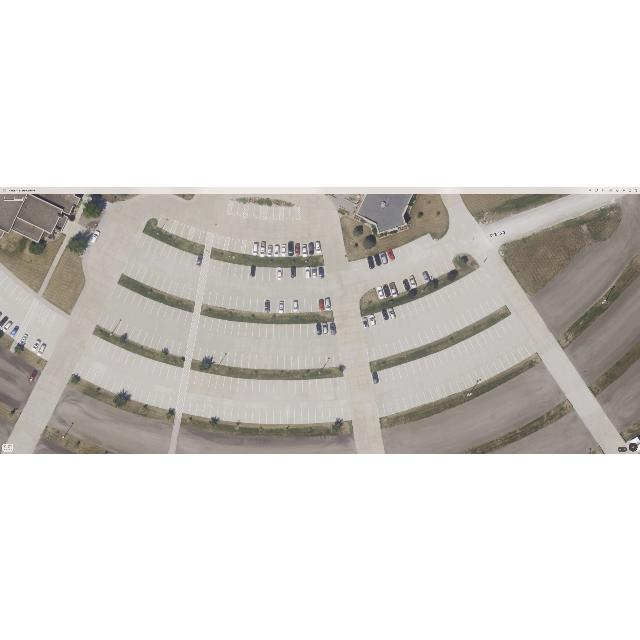Empty: (4, 280, 19, 295), (16, 289, 30, 304), (10, 284, 24, 299), (468, 370, 481, 386), (457, 277, 470, 293), (456, 341, 469, 356), (124, 290, 137, 305), (111, 283, 124, 298), (102, 315, 115, 330), (92, 337, 105, 352), (78, 364, 91, 379), (444, 284, 457, 299), (450, 281, 463, 296), (463, 274, 476, 289), (475, 267, 488, 282), (492, 293, 505, 308), (480, 300, 493, 315), (474, 304, 487, 319), (468, 307, 481, 322), (456, 313, 469, 328), (487, 325, 500, 340), (499, 318, 512, 333), (506, 314, 519, 329), (480, 364, 493, 379), (499, 355, 512, 370), (505, 351, 518, 366), (517, 344, 530, 359), (180, 223, 192, 239), (163, 216, 175, 232), (148, 237, 160, 253), (462, 373, 474, 389), (449, 378, 461, 394), (123, 323, 135, 339), (111, 346, 124, 360), (486, 297, 499, 311), (462, 311, 475, 325), (437, 323, 450, 337), (493, 322, 506, 336), (523, 341, 536, 355), (157, 213, 169, 228), (173, 248, 185, 263), (167, 246, 179, 261), (160, 243, 172, 258), (154, 240, 166, 255), (136, 232, 148, 247), (147, 272, 159, 287), (135, 267, 147, 282), (129, 264, 141, 279), (455, 376, 467, 391), (469, 335, 481, 350), (450, 344, 462, 359), (475, 332, 487, 347), (481, 329, 493, 344), (170, 307, 182, 322), (137, 295, 149, 310), (131, 292, 143, 307), (118, 286, 130, 301), (135, 329, 147, 344), (116, 321, 128, 336), (110, 318, 122, 333), (97, 312, 109, 327), (118, 349, 130, 364), (105, 343, 117, 358), (99, 340, 111, 355), (86, 334, 98, 349), (118, 382, 130, 397), (111, 379, 123, 394), (104, 376, 116, 391), (98, 373, 110, 388), (72, 361, 84, 376), (423, 232, 435, 247), (438, 259, 450, 274), (413, 298, 425, 313), (426, 293, 438, 308), (432, 290, 444, 305), (438, 287, 450, 302), (470, 271, 482, 286), (450, 316, 462, 331), (431, 325, 443, 340), (475, 367, 487, 382), (487, 361, 499, 376), (493, 358, 505, 373), (512, 348, 524, 363), (39, 305, 50, 321), (25, 334, 36, 350), (43, 345, 54, 361), (394, 305, 405, 321), (420, 295, 431, 311), (142, 235, 154, 249), (141, 270, 153, 284), (156, 303, 168, 317), (142, 332, 154, 346), (129, 327, 141, 341), (91, 371, 103, 385), (85, 368, 97, 382), (417, 235, 429, 249), (444, 257, 456, 271), (426, 266, 438, 280), (444, 320, 456, 334), (418, 330, 430, 344), (437, 350, 449, 364), (174, 221, 185, 236), (180, 251, 191, 266), (174, 282, 185, 297), (167, 280, 178, 295), (161, 277, 172, 292), (154, 275, 165, 290), (444, 347, 455, 362), (164, 305, 175, 320), (144, 298, 155, 313), (170, 340, 181, 355), (150, 334, 161, 349), (153, 360, 164, 375), (139, 356, 150, 371), (132, 354, 143, 369), (125, 351, 136, 366), (153, 393, 164, 408), (146, 391, 157, 406), (139, 389, 150, 404), (132, 387, 143, 402), (125, 384, 136, 399), (45, 309, 56, 324), (51, 313, 62, 328), (400, 303, 411, 318), (407, 301, 418, 316), (412, 332, 423, 347), (404, 361, 415, 376), (411, 359, 422, 374), (418, 357, 429, 372), (424, 354, 435, 369), (429, 386, 440, 401), (396, 397, 407, 412), (377, 369, 387, 385), (384, 367, 394, 383), (398, 363, 408, 379), (411, 239, 423, 252), (432, 264, 444, 277), (177, 310, 188, 324), (150, 301, 161, 315), (160, 363, 171, 377), (146, 359, 157, 373), (160, 395, 171, 409), (57, 317, 68, 331), (392, 247, 403, 261), (414, 272, 425, 286), (394, 279, 405, 293), (425, 328, 436, 342), (399, 337, 410, 351), (379, 343, 390, 357), (431, 353, 442, 367), (443, 382, 454, 396), (436, 385, 447, 399), (423, 389, 434, 403), (416, 391, 427, 405), (409, 393, 420, 407), (403, 395, 414, 409), (198, 229, 208, 244), (191, 227, 201, 242), (187, 253, 197, 268), (188, 286, 198, 301), (181, 284, 191, 299), (205, 348, 215, 363), (201, 372, 211, 387), (178, 342, 188, 357), (164, 338, 174, 353), (157, 336, 167, 351), (391, 366, 401, 381), (390, 399, 400, 414), (230, 200, 239, 216), (375, 311, 384, 327), (405, 242, 416, 255), (386, 342, 397, 355), (220, 261, 230, 275), (208, 291, 218, 305), (210, 318, 220, 332), (198, 347, 208, 361), (226, 352, 236, 366), (209, 405, 219, 419), (202, 404, 212, 418), (194, 371, 204, 385), (174, 367, 184, 381), (167, 365, 177, 379), (168, 397, 178, 411), (398, 244, 408, 258), (406, 335, 416, 349), (393, 339, 403, 353), (383, 401, 393, 415), (376, 403, 386, 417), (227, 262, 236, 277), (214, 259, 223, 274), (204, 316, 213, 331), (241, 353, 250, 368), (196, 402, 205, 417), (229, 378, 239, 391), (237, 201, 245, 217), (241, 265, 250, 279), (234, 264, 243, 278), (229, 295, 238, 309), (222, 294, 231, 308), (215, 293, 224, 307), (234, 238, 243, 252), (227, 237, 236, 251), (326, 353, 335, 367), (309, 379, 318, 393), (231, 321, 240, 335), (224, 320, 233, 334), (213, 350, 222, 364), (220, 351, 229, 365), (234, 353, 243, 367), (237, 378, 246, 392), (223, 376, 232, 390), (216, 375, 225, 389), (209, 374, 218, 388), (231, 408, 240, 422), (224, 407, 233, 421), (216, 406, 225, 420), (189, 401, 198, 415), (185, 311, 194, 325), (373, 345, 382, 359), (367, 347, 376, 361), (262, 266, 270, 281), (311, 297, 319, 312), (245, 239, 253, 254), (218, 234, 226, 249), (212, 233, 220, 248), (253, 204, 261, 219), (247, 203, 255, 218), (238, 322, 247, 335), (269, 267, 277, 281), (255, 266, 263, 280), (257, 298, 265, 312), (243, 297, 251, 311), (236, 296, 244, 310), (307, 323, 315, 337), (333, 352, 341, 366), (319, 354, 327, 368), (298, 355, 306, 369), (302, 379, 310, 393), (343, 406, 351, 420), (336, 407, 344, 421), (329, 408, 337, 422), (315, 409, 323, 423), (266, 323, 274, 337), (259, 323, 267, 337), (218, 319, 226, 333), (256, 355, 264, 369), (263, 355, 271, 369), (252, 379, 260, 393), (245, 409, 253, 423), (238, 409, 246, 423), (250, 298, 258, 311), (286, 324, 294, 337), (312, 355, 320, 368), (305, 355, 313, 368), (338, 377, 346, 390), (317, 379, 325, 392), (295, 380, 303, 393), (288, 380, 296, 393), (284, 356, 292, 369), (287, 411, 295, 424), (273, 411, 281, 424), (248, 355, 256, 368), (259, 380, 267, 393), (245, 379, 253, 392), (252, 410, 260, 423), (297, 267, 304, 281), (283, 267, 290, 281), (305, 298, 312, 312), (298, 299, 305, 313), (284, 299, 291, 313), (271, 299, 278, 313), (267, 205, 274, 219), (331, 377, 338, 391), (324, 378, 331, 392), (270, 355, 277, 369), (302, 410, 309, 424), (295, 410, 302, 424), (281, 410, 288, 424), (253, 323, 260, 337), (246, 322, 253, 336), (273, 206, 280, 219), (301, 324, 308, 337), (294, 324, 301, 337), (280, 324, 287, 337), (292, 356, 299, 369), (281, 380, 288, 393), (274, 380, 281, 393), (277, 356, 284, 369), (323, 409, 330, 422), (309, 410, 316, 423), (273, 324, 280, 337), (267, 380, 274, 393), (267, 411, 274, 424), (260, 410, 267, 423), (290, 206, 296, 220), (284, 206, 290, 220)
Parked: (7, 322, 21, 340), (1, 319, 15, 334), (30, 338, 42, 354), (379, 251, 391, 266), (36, 342, 48, 357), (367, 313, 378, 329), (387, 307, 398, 323), (407, 274, 419, 288), (19, 332, 31, 346), (366, 255, 377, 270), (386, 248, 397, 263), (375, 285, 386, 300), (361, 315, 371, 331), (381, 309, 391, 325), (123, 261, 134, 275), (420, 269, 431, 283), (401, 277, 412, 291), (373, 253, 383, 268), (382, 283, 392, 298), (371, 371, 381, 386), (248, 264, 257, 280), (194, 253, 203, 269), (0, 314, 9, 330), (327, 321, 337, 335), (389, 282, 398, 297), (317, 266, 327, 279), (259, 240, 267, 256), (266, 241, 274, 256), (287, 241, 295, 256), (314, 240, 322, 255), (303, 266, 311, 281), (321, 321, 329, 336), (290, 265, 297, 282), (252, 241, 260, 255), (301, 241, 308, 257), (307, 241, 315, 255), (324, 296, 332, 310), (317, 297, 325, 311), (291, 299, 299, 313), (294, 241, 301, 256), (276, 266, 283, 281), (314, 323, 322, 336), (273, 242, 280, 256), (311, 266, 318, 280), (278, 299, 285, 313), (264, 298, 271, 312), (280, 243, 287, 256)
